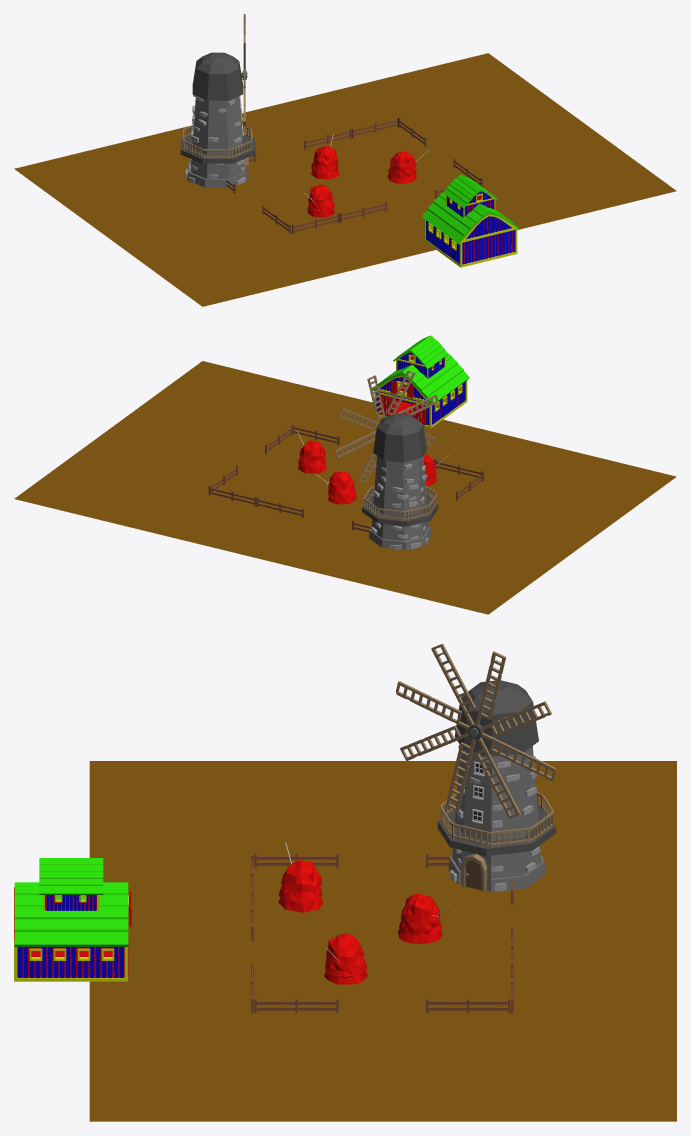
Rendered from farmtest.fbx.
The picture shows the model from 3 angles, top to bottom: view 1: azimuth 30°, elevation 25°; view 2: azimuth 150°, elevation 25°; view 3: azimuth 270°, elevation 25°; orthographic projection. The views are drawn at different scales.
Visible parts, largest first — view 1: Plane, TowerWindmill_Cylinder.008, BigBarn_Cube.034, HayStack, HayStack.001, HayStack.002; view 2: Plane, TowerWindmill_Cylinder.008, BigBarn_Cube.034, HayStack.001, HayStack; view 3: Plane, TowerWindmill_Cylinder.008, BigBarn_Cube.034, HayStack.002, HayStack.001, HayStack, Fence_Cube.004, Fence_Cube.006.
Part boxes in pixels (x1,y1,x2,y2): Plane: [14, 53, 676, 306]; TowerWindmill_Cylinder.008: [180, 14, 255, 187]; BigBarn_Cube.034: [421, 174, 519, 267]; HayStack: [387, 149, 430, 183]; HayStack.001: [311, 134, 339, 179]; HayStack.002: [304, 184, 334, 217]; Plane: [14, 361, 676, 614]; TowerWindmill_Cylinder.008: [335, 370, 438, 550]; BigBarn_Cube.034: [372, 335, 469, 428]; HayStack.001: [315, 472, 356, 504]; HayStack: [297, 430, 326, 473]; Plane: [89, 761, 676, 1121]; TowerWindmill_Cylinder.008: [396, 643, 556, 892]; BigBarn_Cube.034: [14, 858, 131, 981]; HayStack.002: [278, 842, 323, 912]; HayStack.001: [397, 894, 449, 943]; HayStack: [324, 933, 367, 984]; Fence_Cube.004: [254, 998, 338, 1013]; Fence_Cube.006: [426, 998, 510, 1013].
Bounding box in the file's own units: 5962 × 1858 × 4636.
